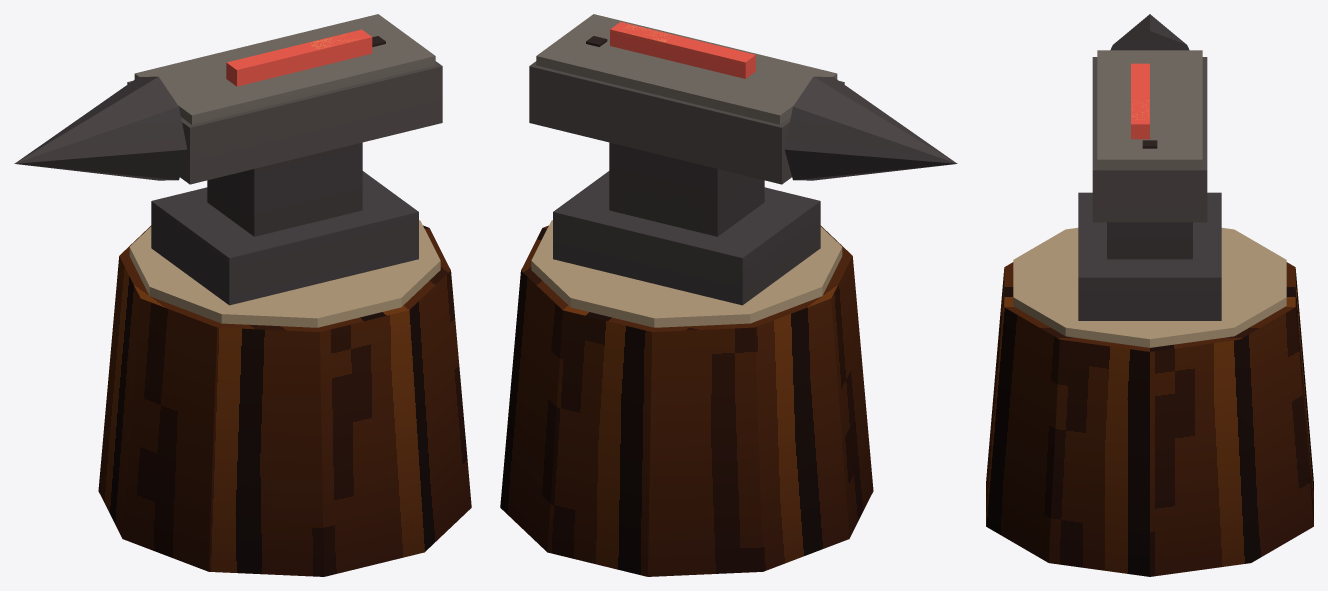
Rendered from forge_anvil.glb.
3 views of the same model, side by side, from view 1: azimuth 30°, elevation 25°; view 2: azimuth 150°, elevation 25°; view 3: azimuth 270°, elevation 25° (orthographic). The views are drawn at different scales.
Visible parts, largest first — view 1: forge_anvil; view 2: forge_anvil; view 3: forge_anvil.
Boxes of the visible parts, x1,y1,x2,y2 form: forge_anvil: (14,14,471,576); forge_anvil: (500,14,957,576); forge_anvil: (986,14,1313,576).
Bounding box in the file's own units: 0.96 × 0.96 × 0.6848.
3 materials, 1 textured.
